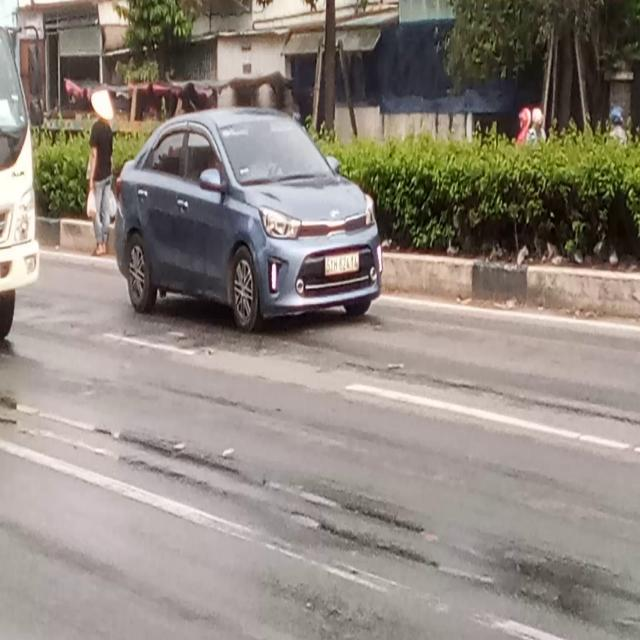bien_trang: (324, 253, 361, 277)
